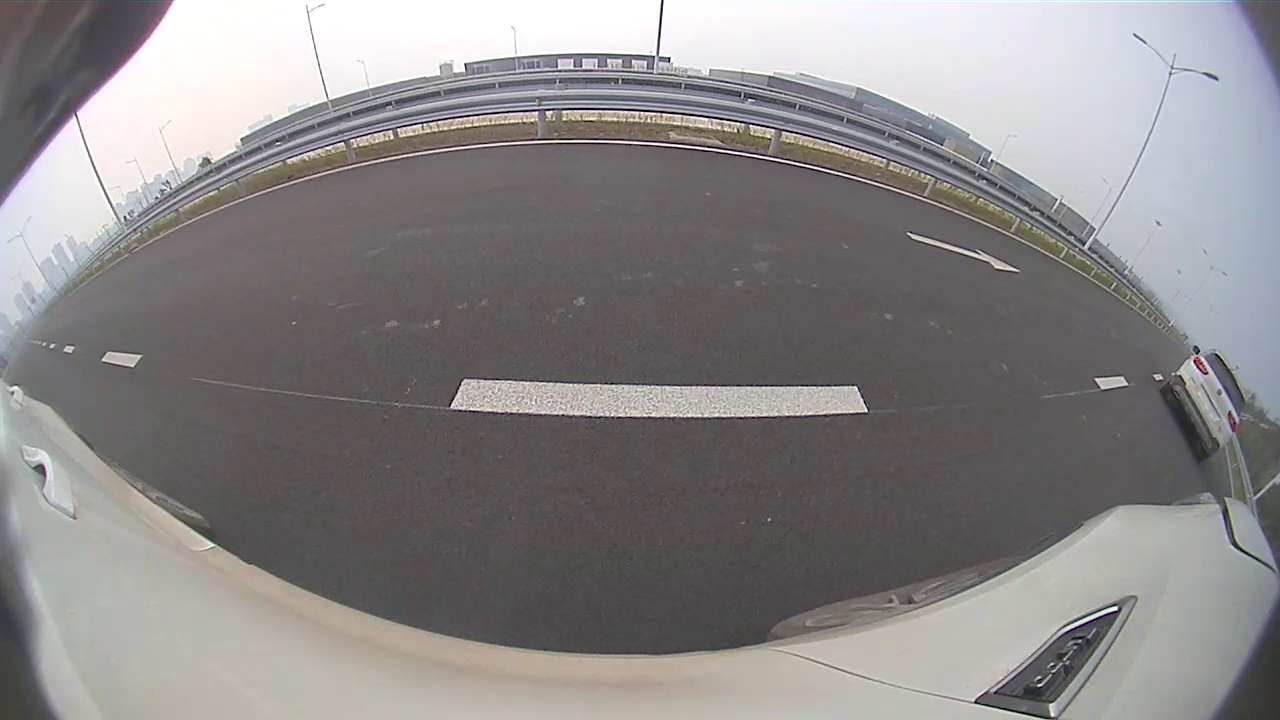car: (1159, 344, 1246, 465)
